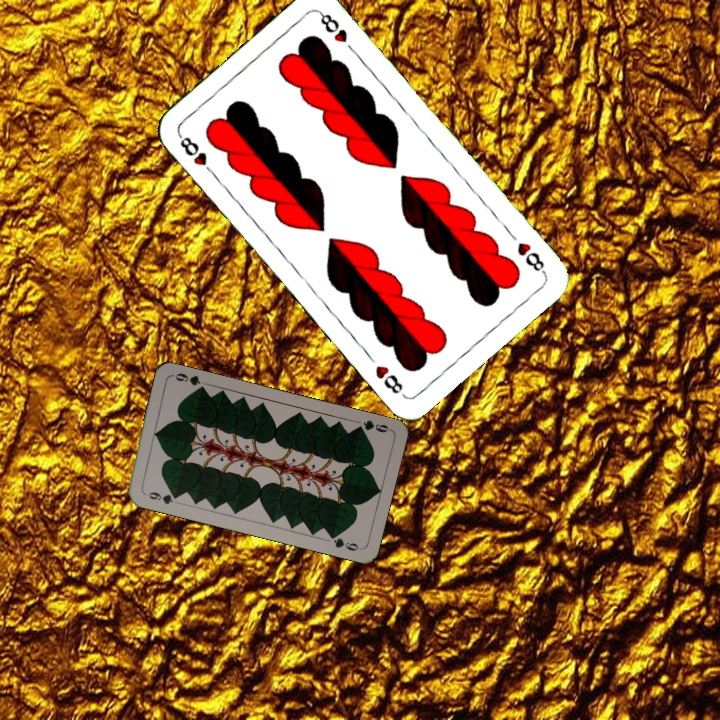G9: (351, 416, 393, 435), (140, 488, 181, 507)
H8: (174, 130, 218, 179), (513, 238, 549, 277)
